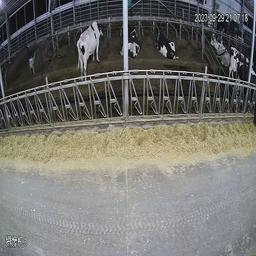cow: (78, 18, 105, 77), (152, 24, 180, 60), (127, 22, 142, 57)
